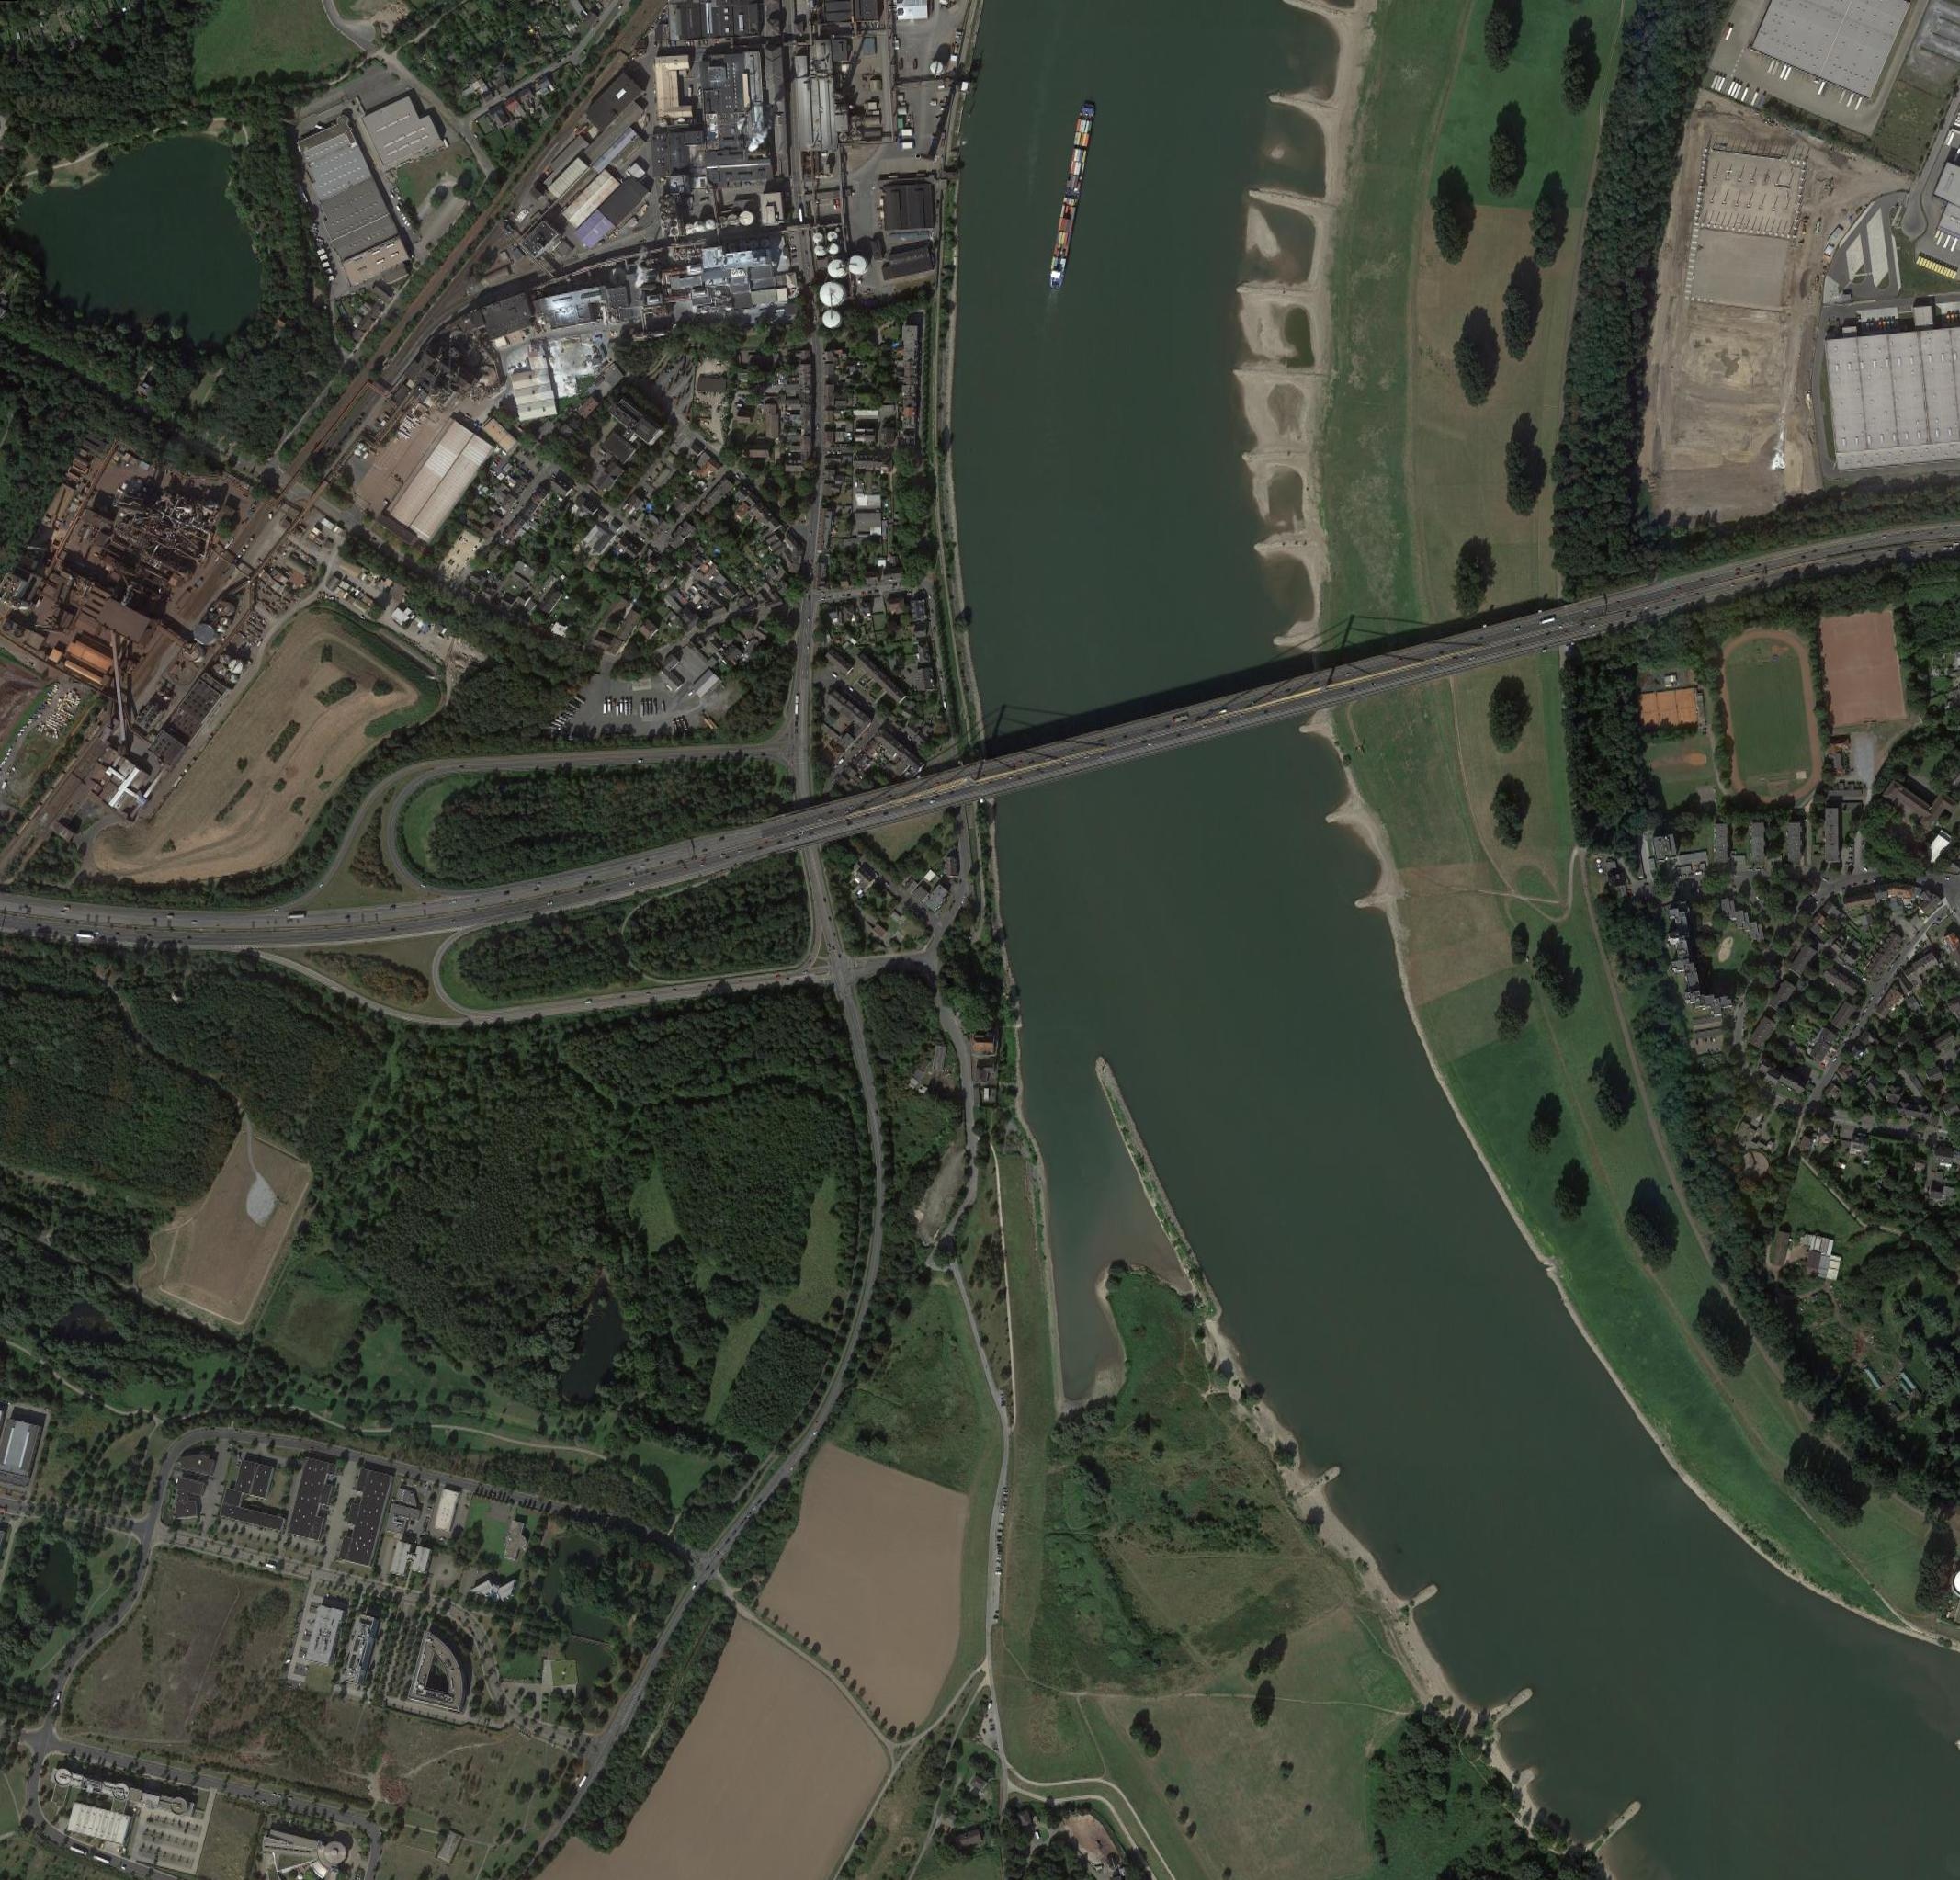harbor: (1094, 1052, 1221, 1316)
ship: (1041, 105, 1101, 294)
